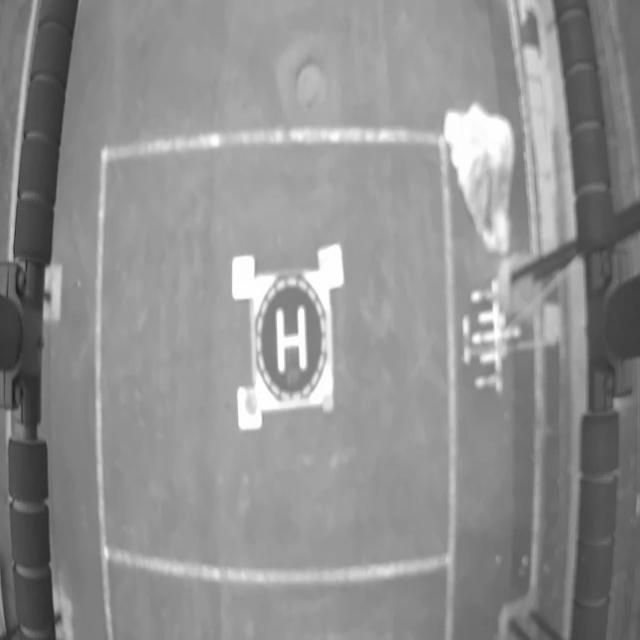Helipad: (276, 305, 307, 375)
